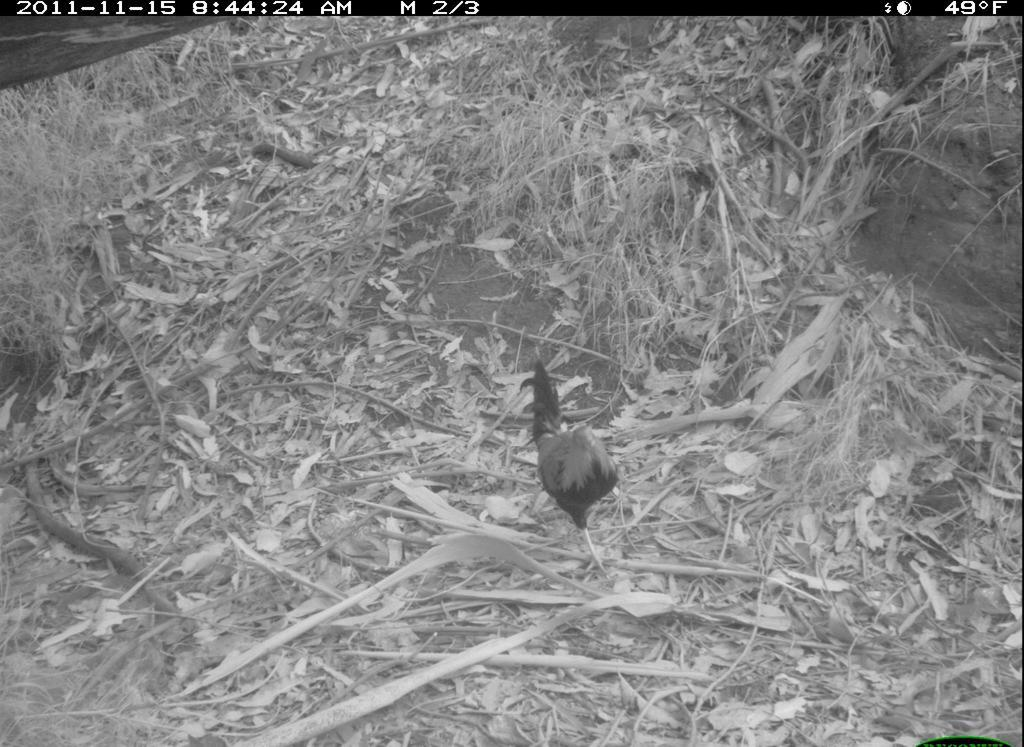bird: (518, 358, 625, 580)
